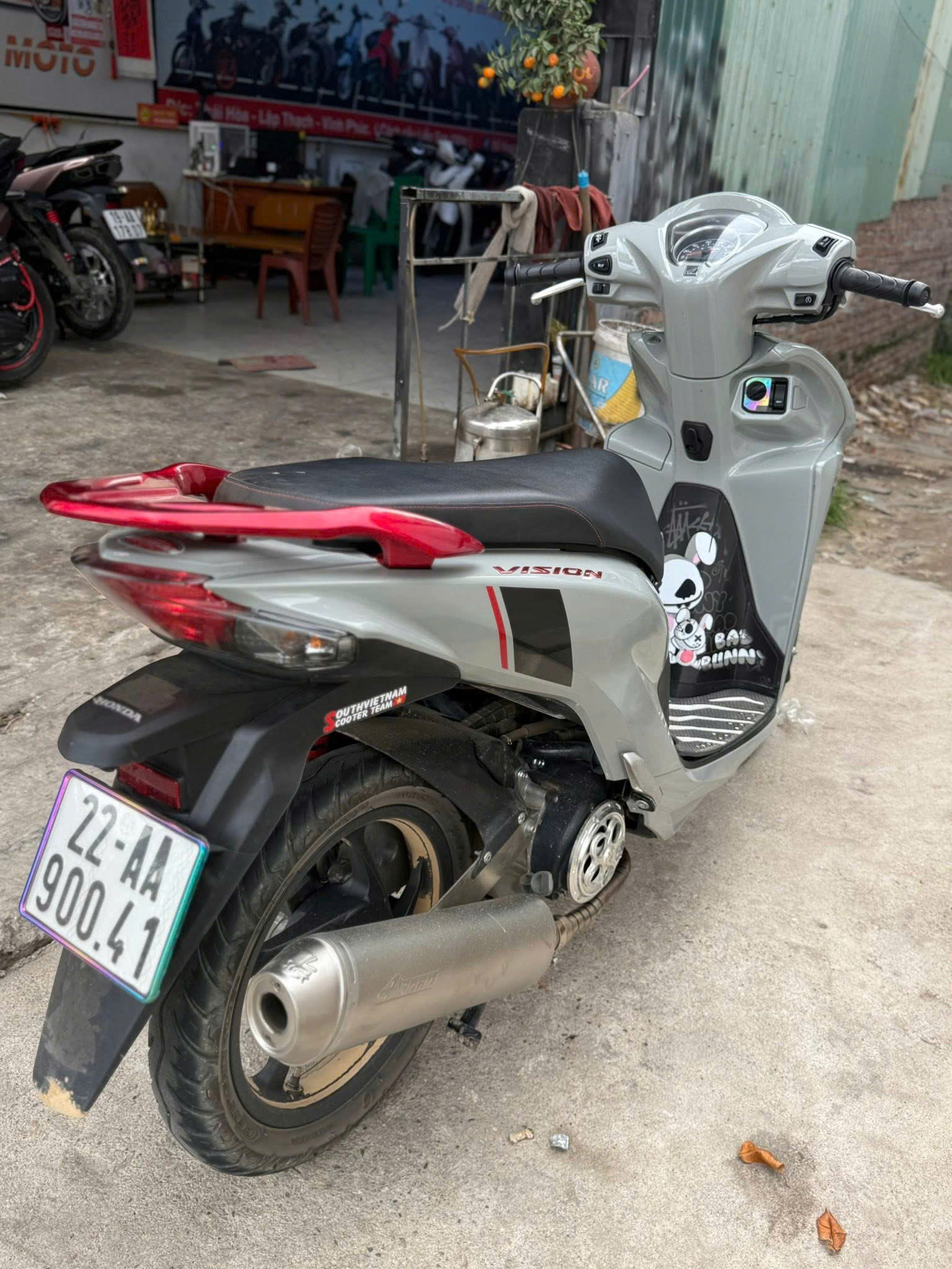Bien-so: (24, 769, 203, 999)
